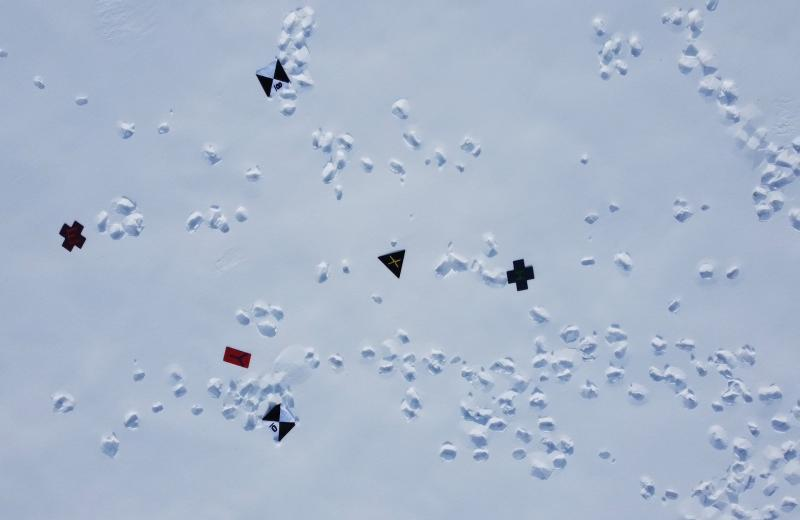Cross: (503, 253, 538, 295), (56, 218, 88, 256)
Rectangle: (219, 342, 255, 371)
Triangle: (375, 242, 408, 283)
